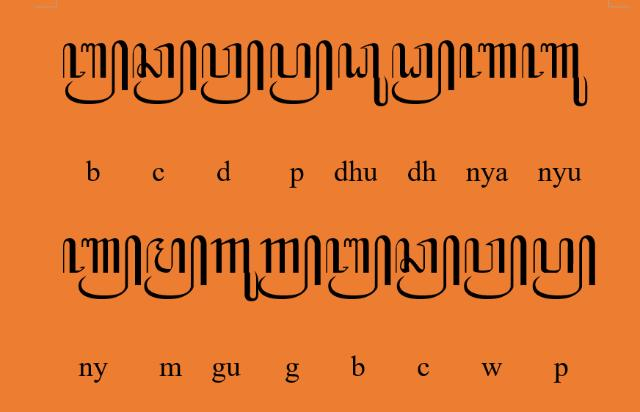-b: (62, 40, 128, 106), (325, 236, 391, 300)
-c: (133, 40, 197, 106), (396, 236, 460, 300)
-d: (200, 40, 264, 106)
-dh: (392, 40, 456, 104)
-g: (258, 236, 322, 300)
-m: (144, 235, 208, 301)
-ny: (62, 236, 142, 300)
-p: (269, 40, 333, 106), (533, 234, 597, 300)
-w: (463, 235, 527, 301)
dhu: (337, 43, 389, 107)
gu: (211, 238, 259, 302)
ny1: (459, 42, 517, 80)
nyu1: (522, 42, 588, 108)
